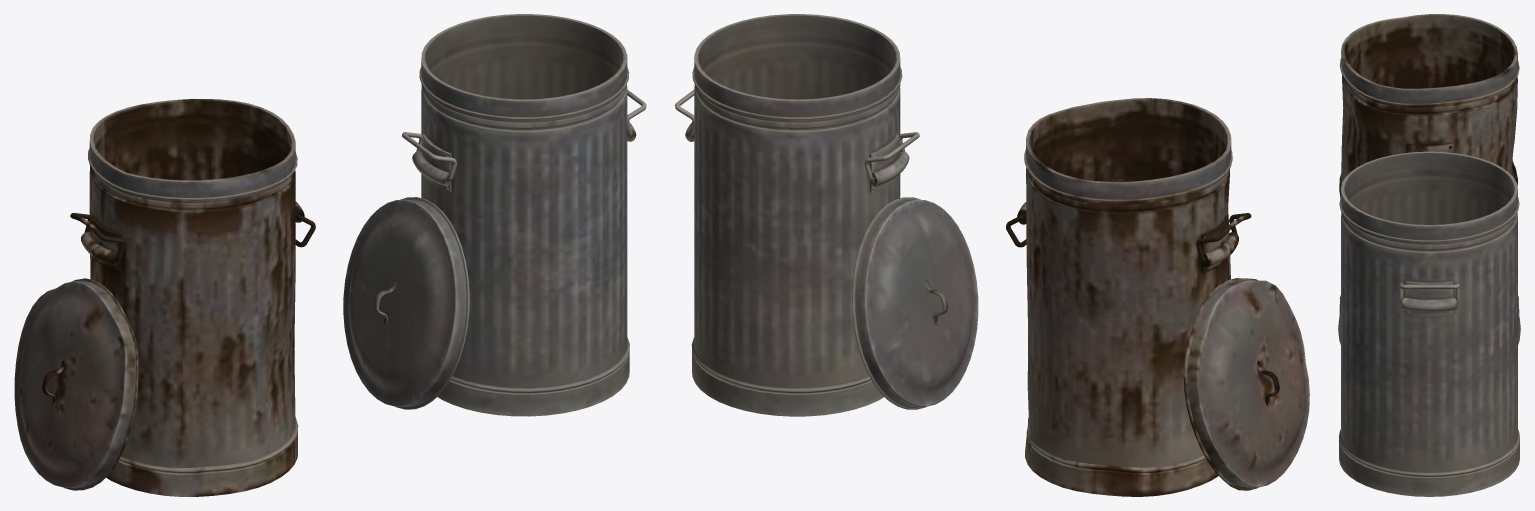
Rendered from metal_trash_can.glb.
3 views of the same model, side by side, from view 1: azimuth 30°, elevation 25°; view 2: azimuth 150°, elevation 25°; view 3: azimuth 270°, elevation 25° (orthographic). The views are drawn at different scales.
Parts seen in each view (by area): view 1: metal_trash_can_handle_left, metal_trash_can_rust; view 2: metal_trash_can_handle_left, metal_trash_can_rust; view 3: metal_trash_can_handle_left, metal_trash_can_rust.
Boxes of the visible parts, bbox=[...] form: metal_trash_can_handle_left: bbox=[343, 14, 646, 416]; metal_trash_can_rust: bbox=[14, 99, 315, 496]; metal_trash_can_handle_left: bbox=[675, 14, 978, 416]; metal_trash_can_rust: bbox=[1006, 98, 1309, 496]; metal_trash_can_handle_left: bbox=[1338, 151, 1520, 496]; metal_trash_can_rust: bbox=[1339, 14, 1519, 315].
Size of the model in its own units: 1.78 by 0.9062 by 0.5563.
Materials: 2 (2 with a texture image).
